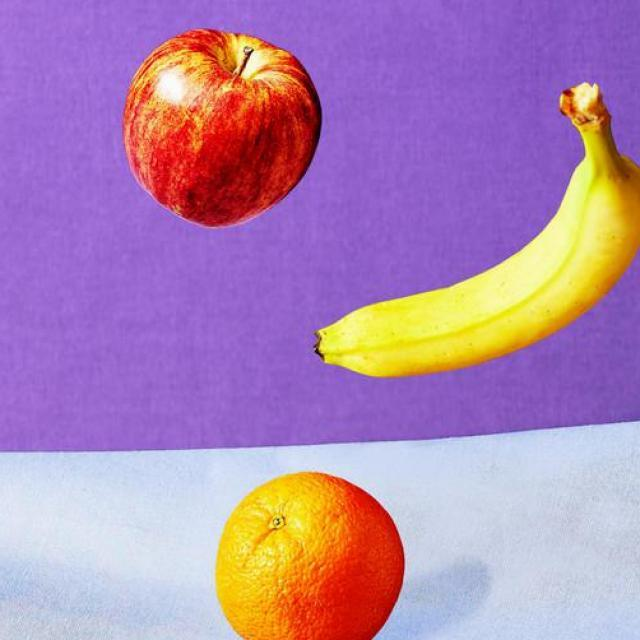apple: (118, 24, 336, 232)
banana: (301, 77, 640, 396)
orange: (212, 456, 414, 640)
